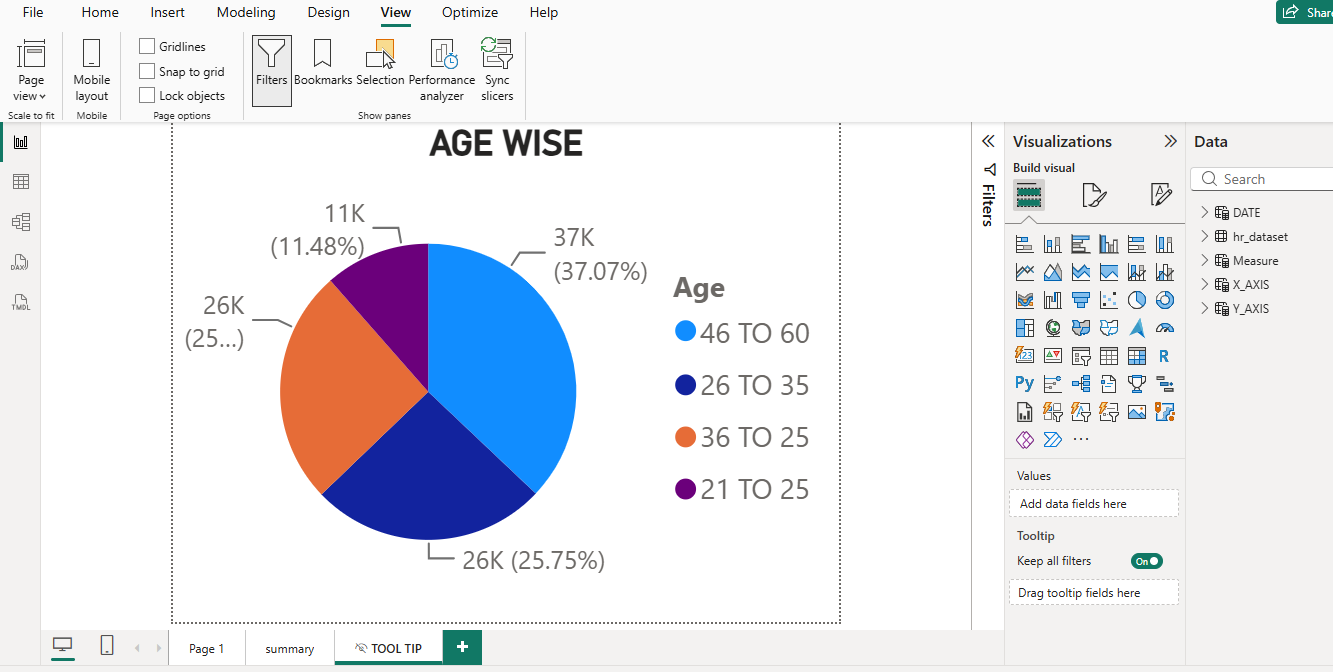

What the dashboard file says about the page in this screenshot:
{"tool":"powerbi","page":{"name":"TOOL TIP","canvas":[320,240],"ordinal":2},"visuals":[{"type":"pieChart","title":"AGE WISE","fields":{"Y":["Measure.AGE"],"Category":["hr_dataset.Age"]},"box":[0,0,320,240],"z":0}]}

Visuals, with their boxes on the page's 320x240 design canvas (x1, y1, x2, y2). These are canvas units, not pixel positions in the 1333x672 screenshot, which may show the page scaled, cropped or inside an application window:
"AGE WISE" pieChart: <box>0,0,320,240</box>
